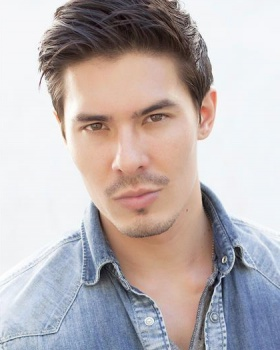bad: (46, 64, 201, 219)
